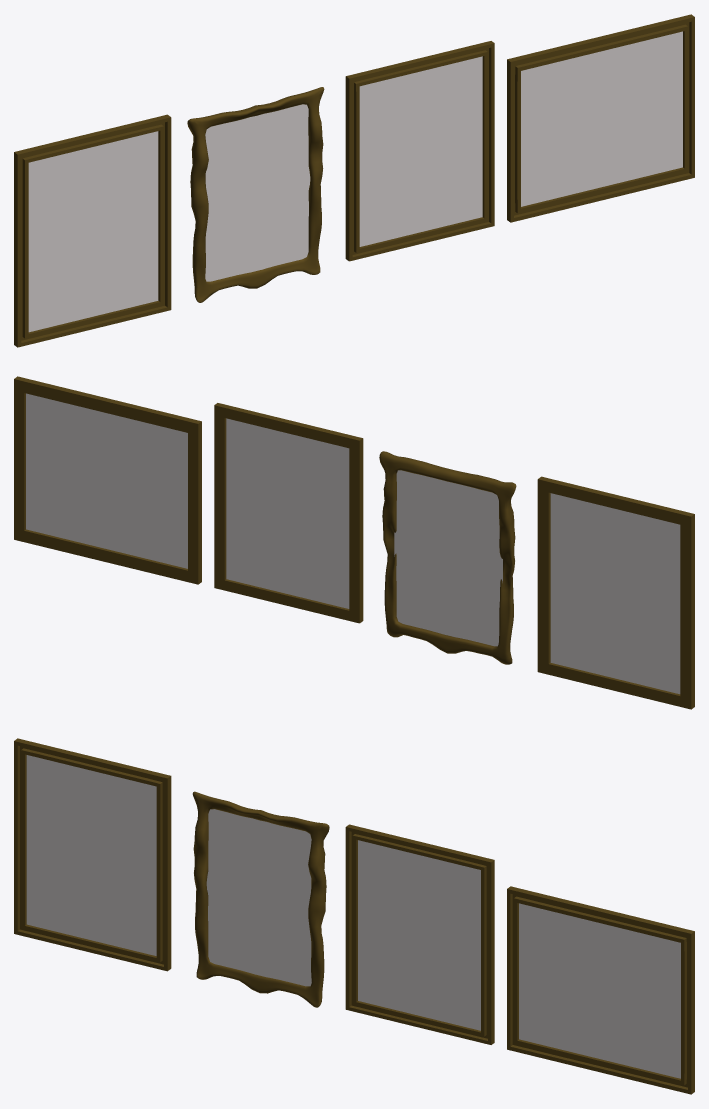
File: paintings.fbx
3 renders of one model, top to bottom at view 1: azimuth 30°, elevation 25°; view 2: azimuth 150°, elevation 25°; view 3: azimuth 330°, elevation 25°, orthographic.
Parts seen in each view (by area): view 1: pPlane2 (×2), pPlane1, pPlane3, gakubutchi_01, gakubutchi_02, gakubutchi_03, gakubuchi_02; view 2: pPlane2 (×2), pPlane1, pPlane3, gakubutchi_01, gakubutchi_02, gakubutchi_03, gakubuchi_02; view 3: pPlane2 (×2), pPlane1, pPlane3, gakubutchi_01, gakubutchi_02, gakubutchi_03, gakubuchi_02.
Part boxes in pixels (bbox=[...]): pPlane2 (×2): bbox=[205, 31, 682, 281]; pPlane1: bbox=[28, 131, 158, 332]; pPlane3: bbox=[359, 56, 482, 246]; gakubutchi_01: bbox=[14, 114, 171, 347]; gakubutchi_02: bbox=[507, 14, 694, 222]; gakubutchi_03: bbox=[345, 41, 494, 261]; gakubuchi_02: bbox=[187, 87, 324, 302]; pPlane2 (×2): bbox=[26, 393, 502, 646]; pPlane1: bbox=[550, 493, 680, 694]; pPlane3: bbox=[226, 418, 349, 608]; gakubutchi_01: bbox=[537, 476, 694, 709]; gakubutchi_02: bbox=[14, 376, 201, 584]; gakubutchi_03: bbox=[214, 403, 363, 623]; gakubuchi_02: bbox=[379, 451, 516, 664]; pPlane2 (×2): bbox=[206, 809, 680, 1078]; pPlane1: bbox=[26, 755, 156, 955]; pPlane3: bbox=[358, 840, 480, 1030]; gakubutchi_01: bbox=[14, 738, 171, 971]; gakubutchi_02: bbox=[507, 886, 694, 1094]; gakubutchi_03: bbox=[345, 824, 494, 1044]; gakubuchi_02: bbox=[192, 791, 329, 1007].
Bounding box in the file's own units: 441 × 122 × 10.82.
